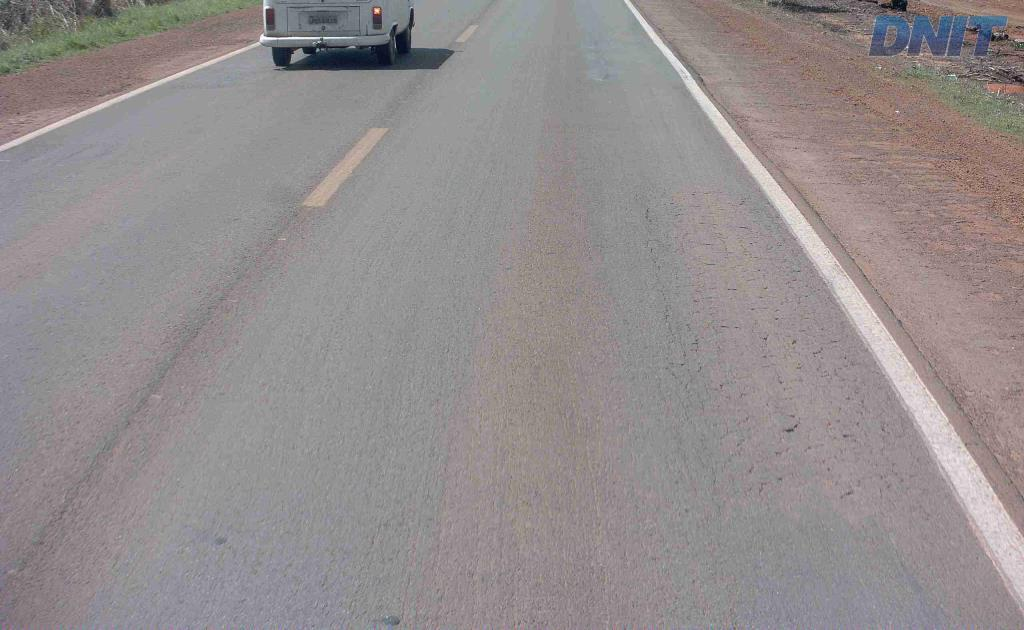crack: (657, 288, 701, 362)
